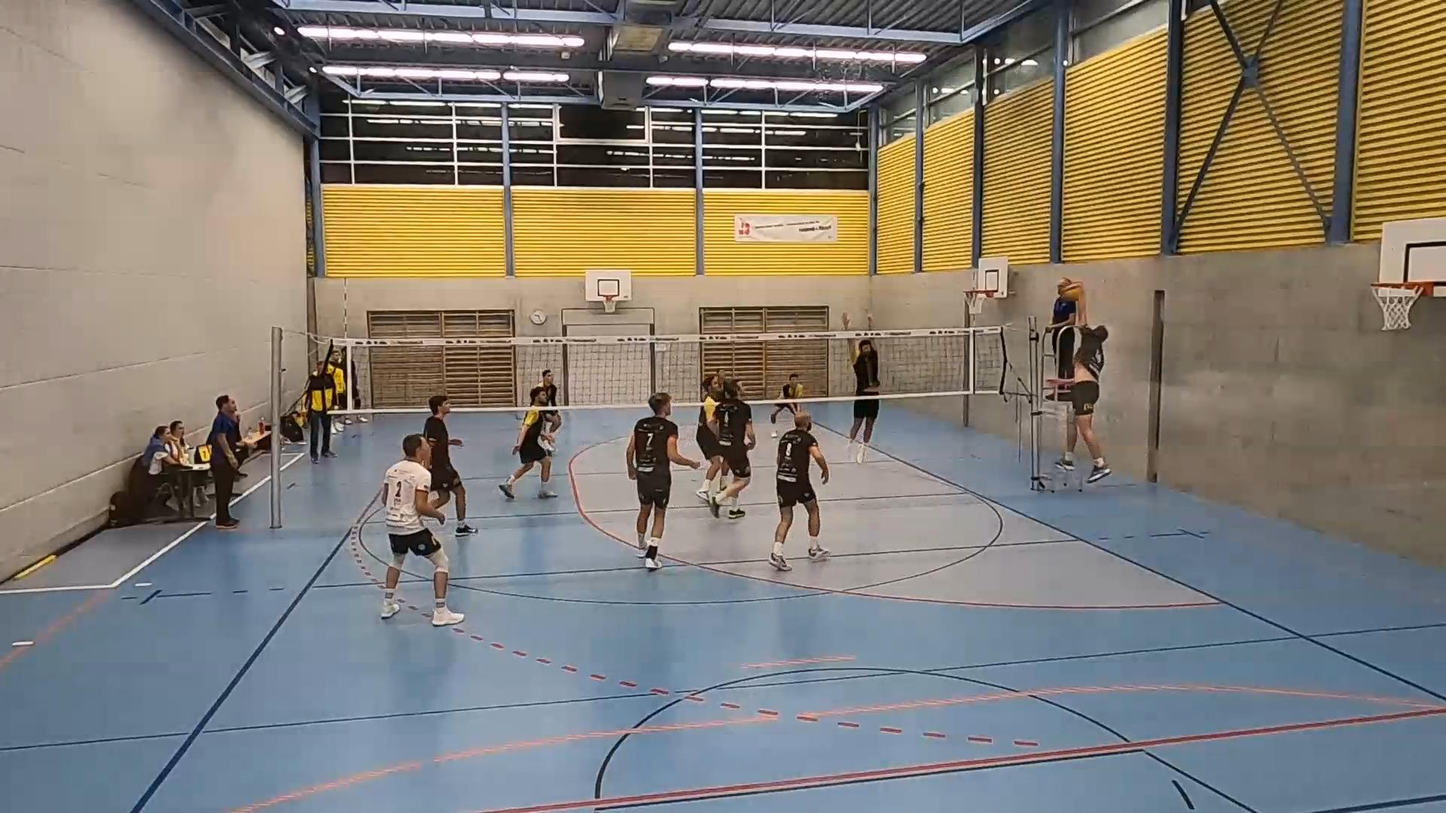attacco: (1046, 278, 1115, 481)
muro: (838, 311, 885, 468)
